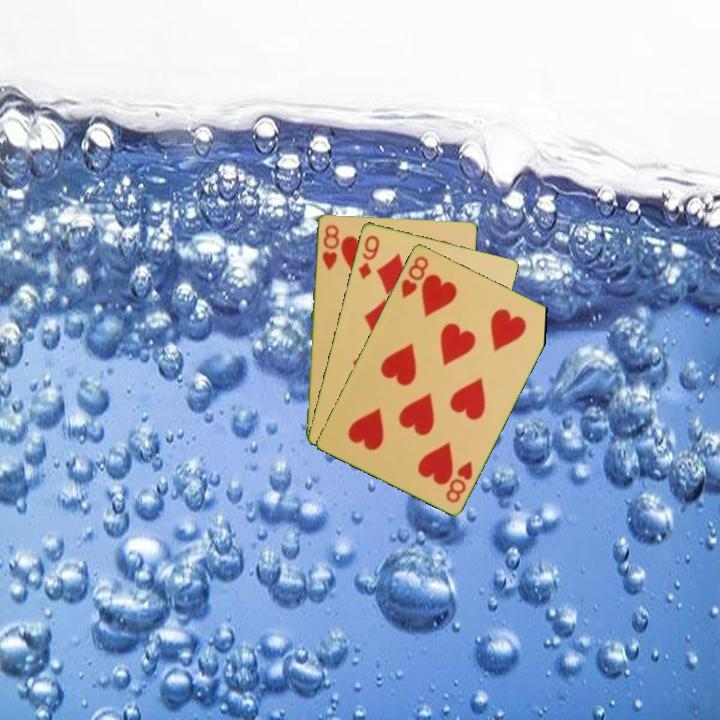8h: (397, 252, 431, 301), (442, 457, 475, 506), (318, 221, 341, 272)
9d: (355, 231, 382, 282)
